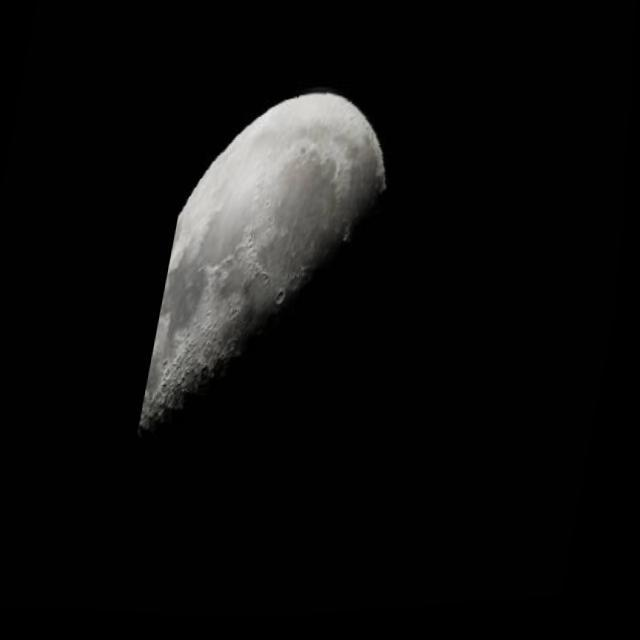moon: (130, 63, 452, 536)
